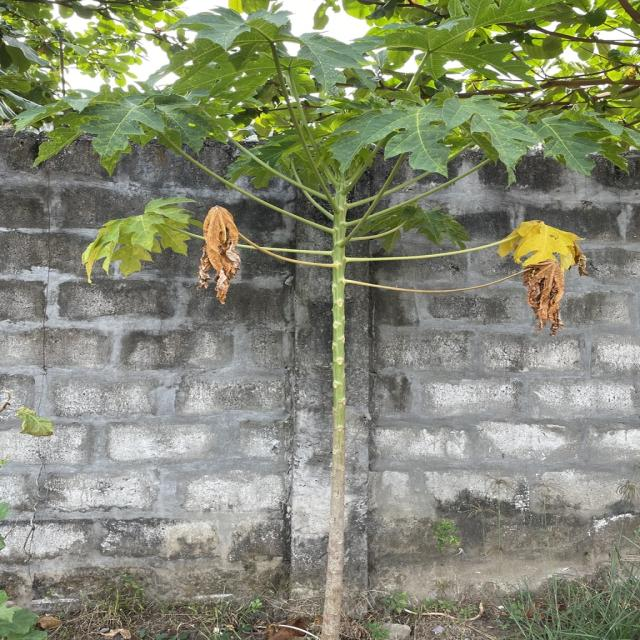Papaya-Tree: (70, 13, 621, 598)
